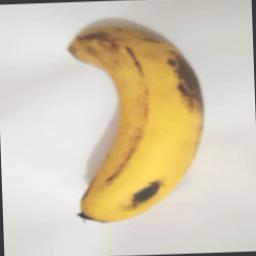Banana Unripe: (64, 22, 208, 224)
